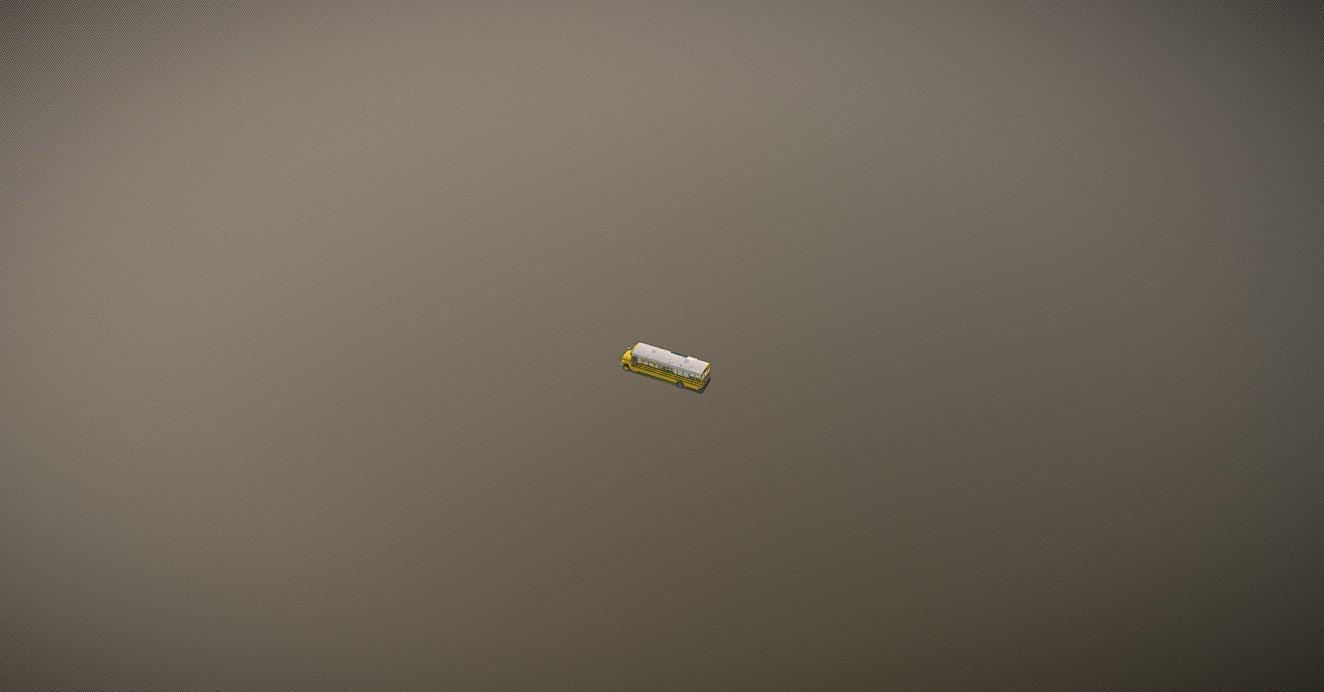Bus: (619, 340, 713, 395)
